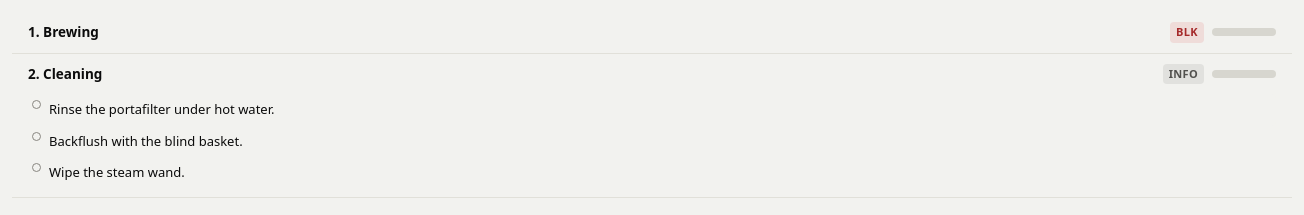
PhaseNav › opens on the phase holding currentIndex, not the first phase
Note: Clicking the already-open phase collapses it.
Click the text "2. Cleaning".
click(65, 74)  # box [28,65,102,83]
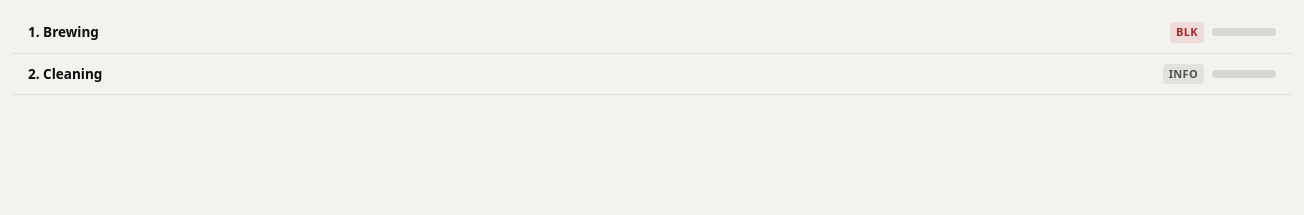
Now no elements with class "lbl" are shown
